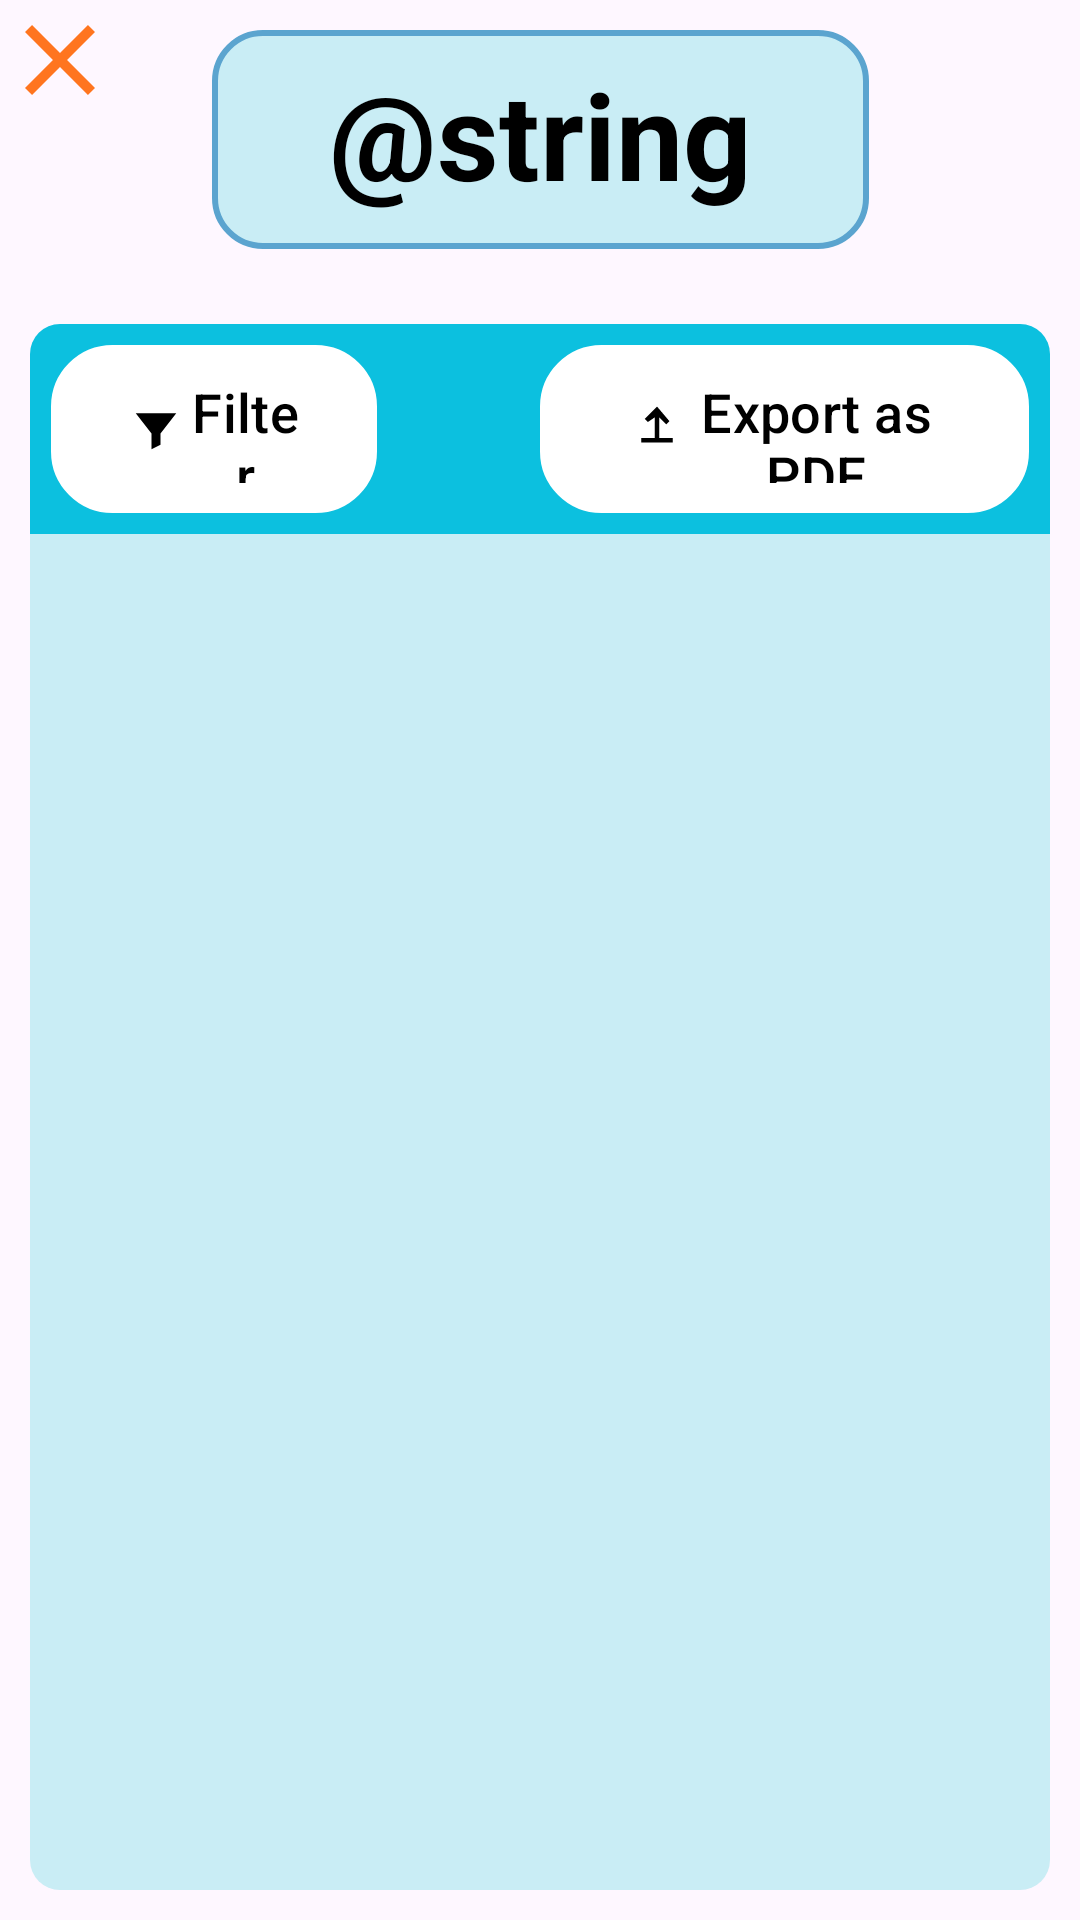

Where icons sit on this 1080px×1920px app screen, as (x1, y1, x2, y2):
Close: (25, 25, 95, 95)
